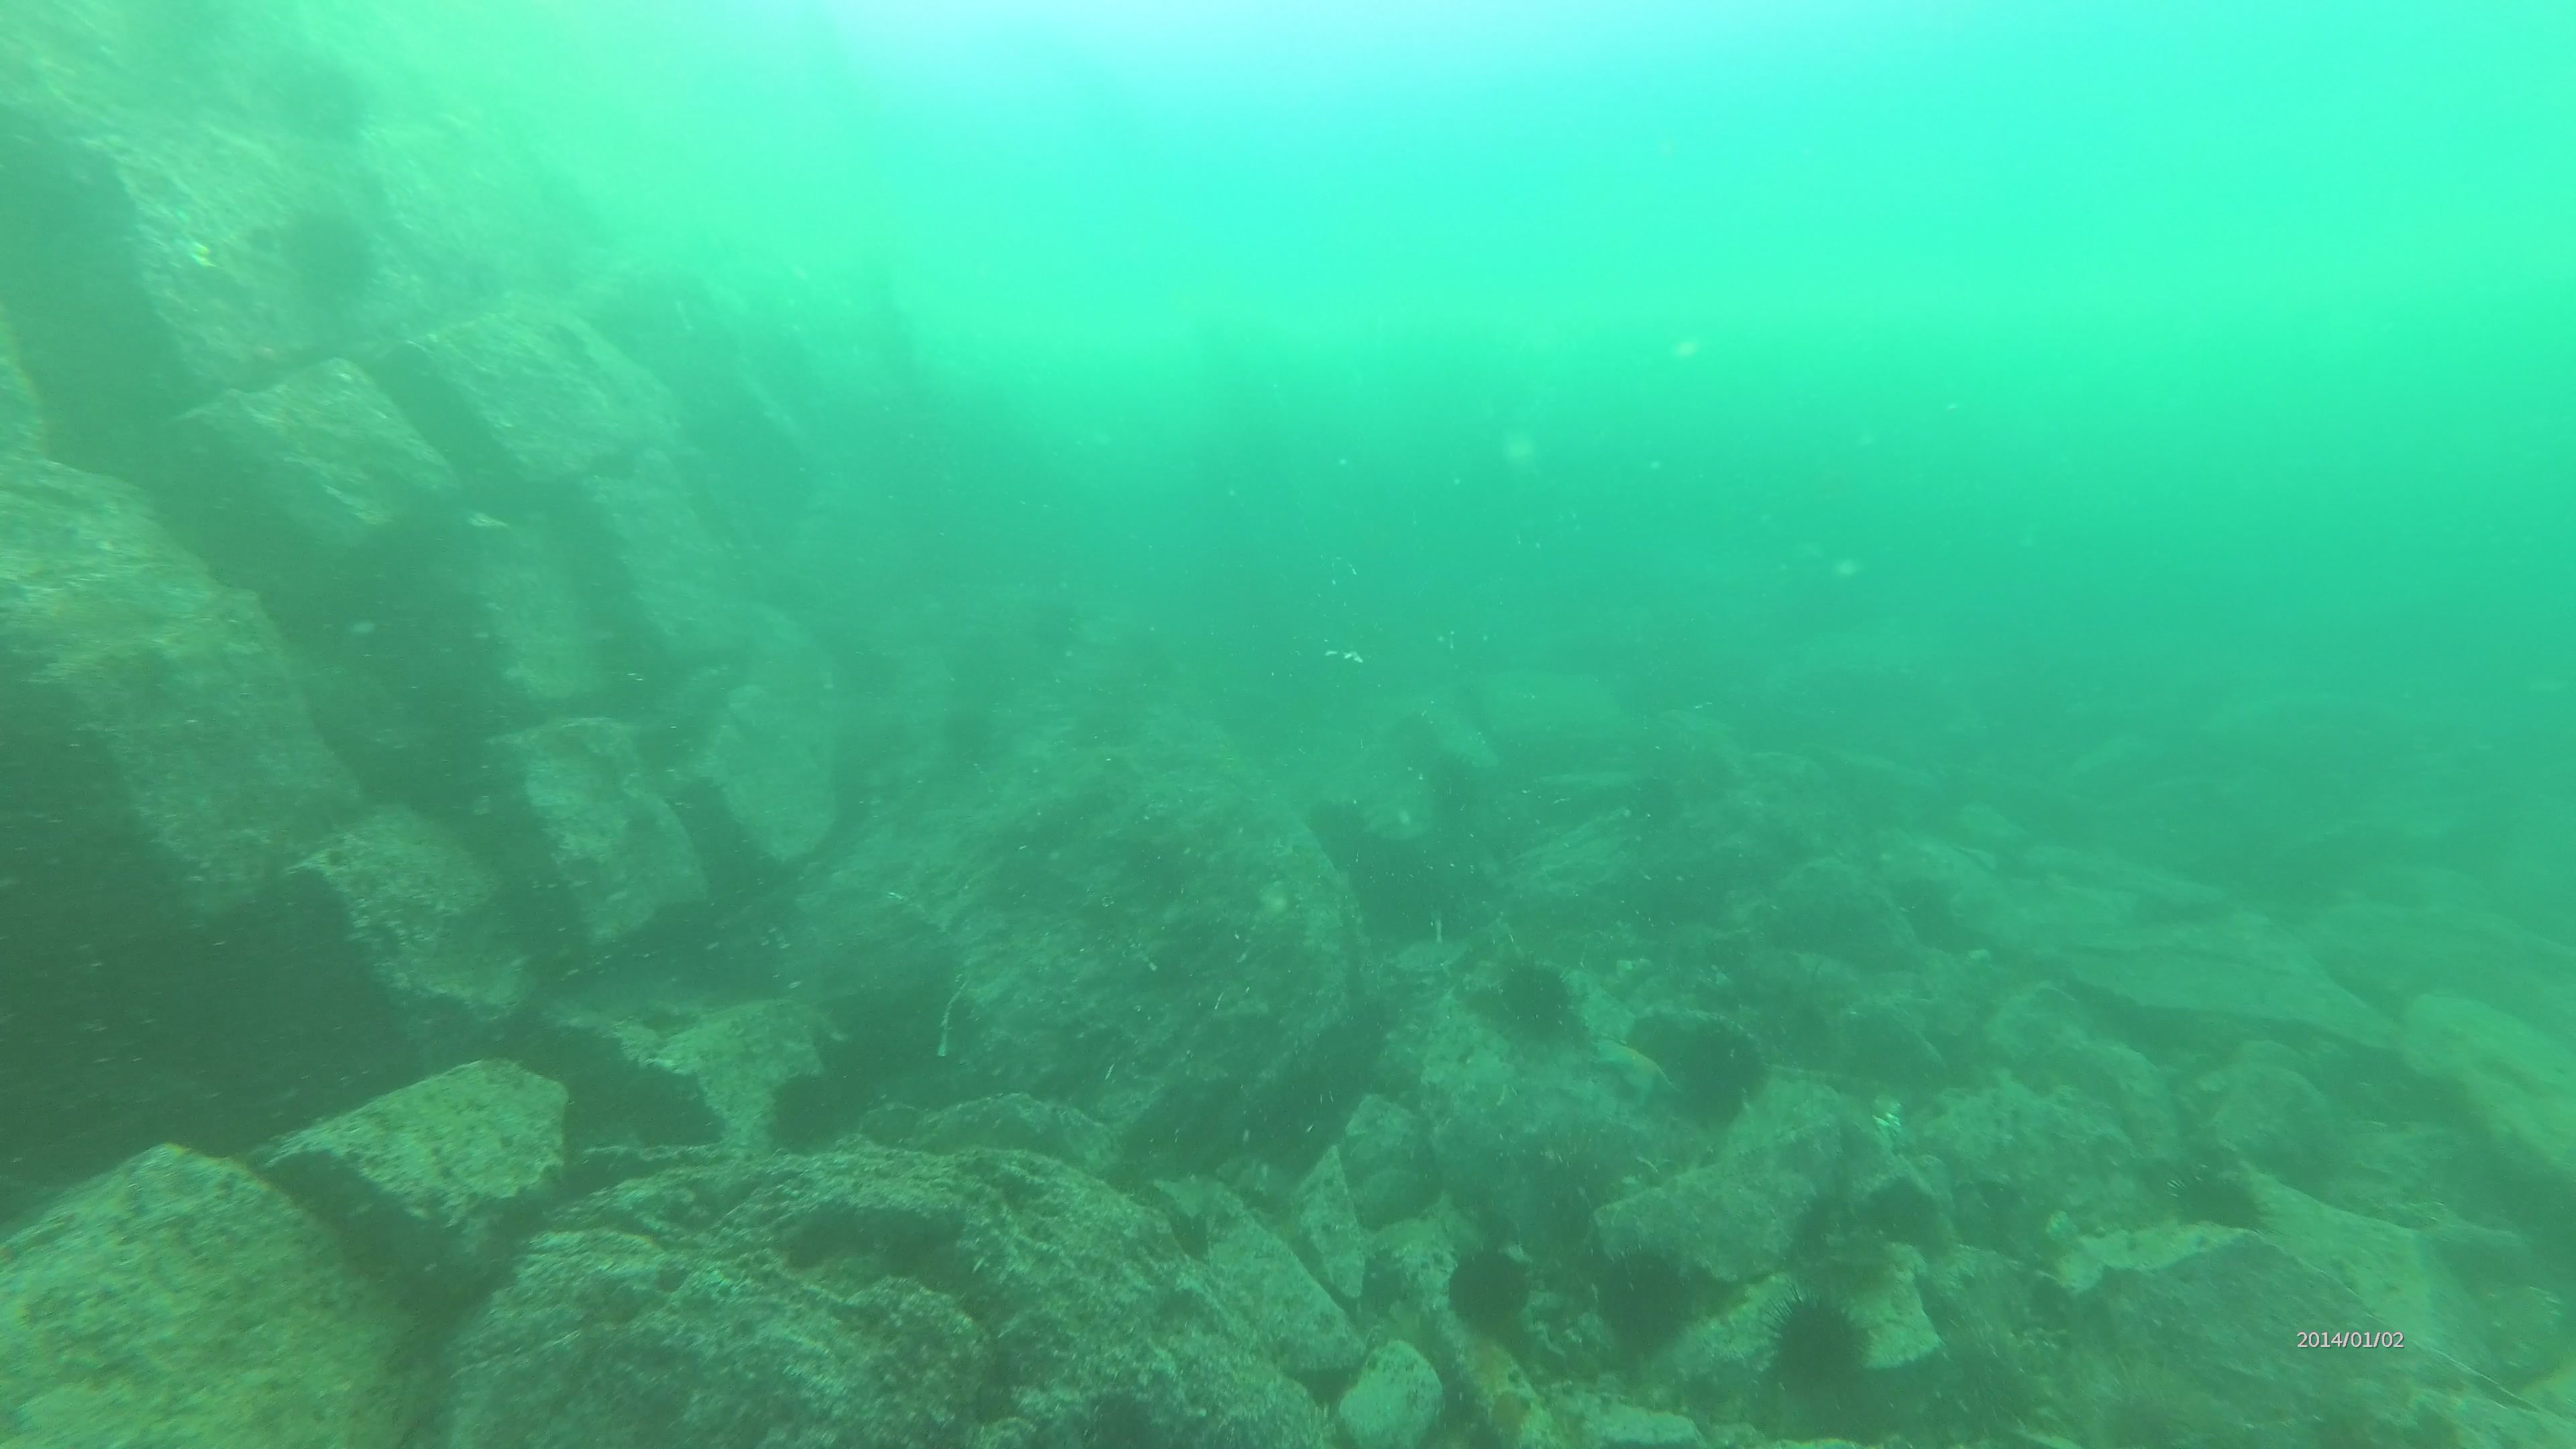echinus: (1764, 1292, 1877, 1391), (1599, 1244, 1695, 1355), (283, 207, 384, 308), (1663, 1019, 1759, 1115), (2171, 1169, 2275, 1246), (1451, 1249, 1534, 1334), (1497, 952, 1573, 1035)
starfish: (1583, 1035, 1681, 1102)
